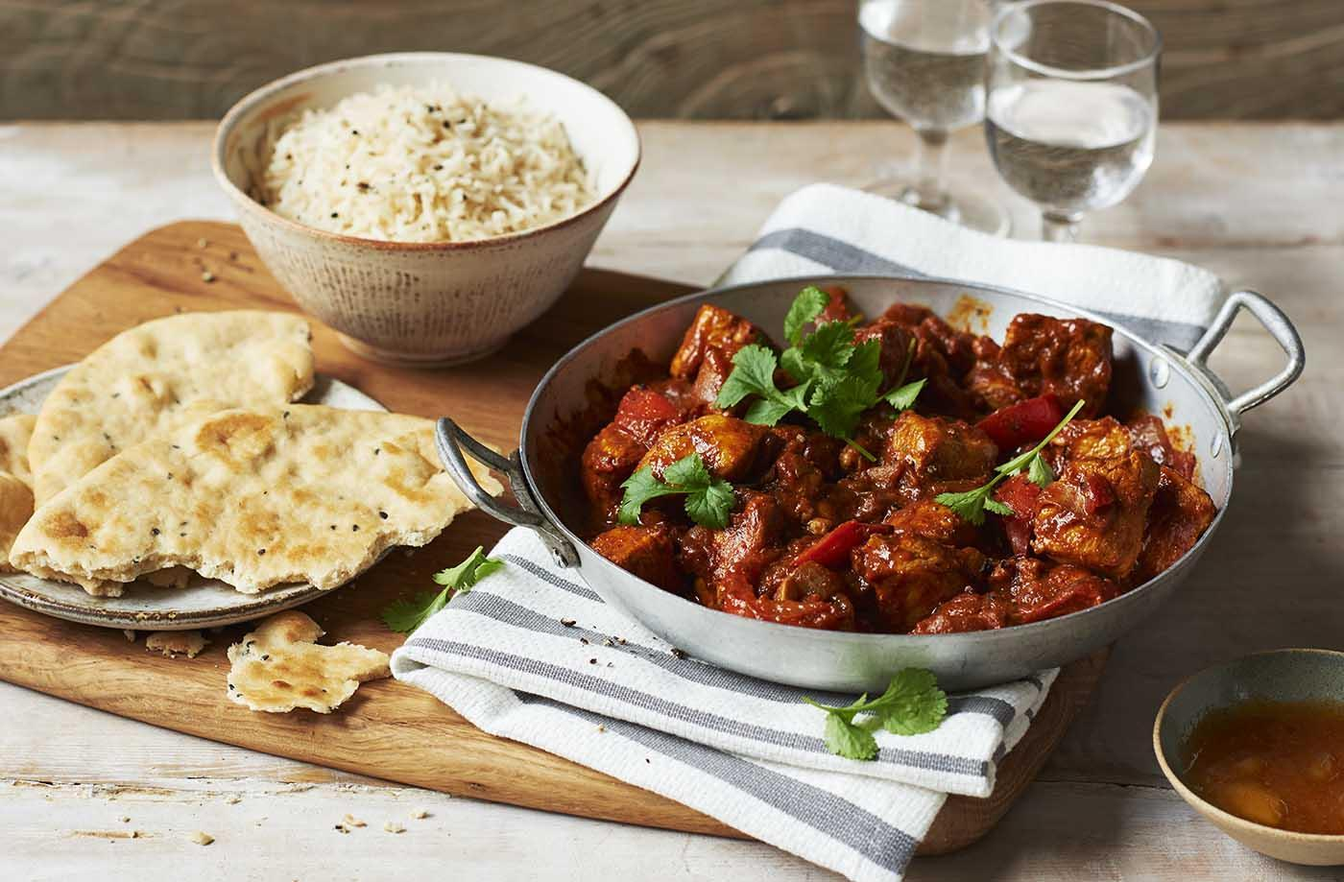chicken: (564, 284, 1200, 631)
rice: (257, 109, 588, 232)
roti: (5, 340, 401, 602)
